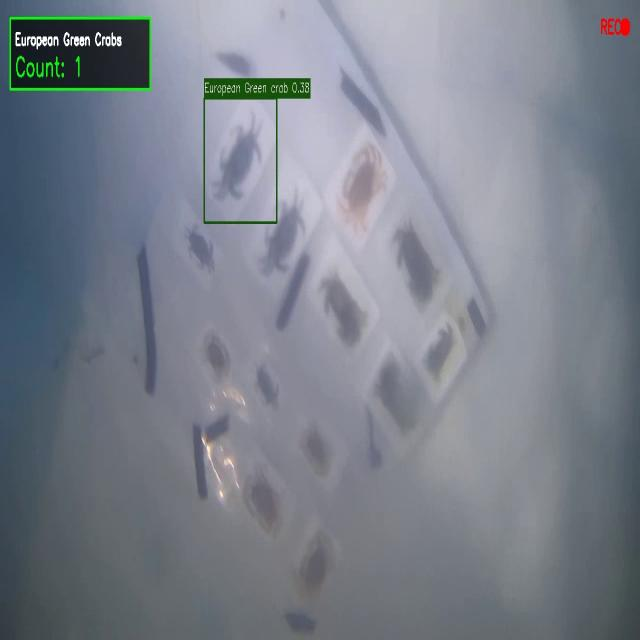European_Green_Crab: (250, 167, 321, 298), (203, 100, 276, 222), (181, 215, 220, 289), (250, 357, 288, 421)
